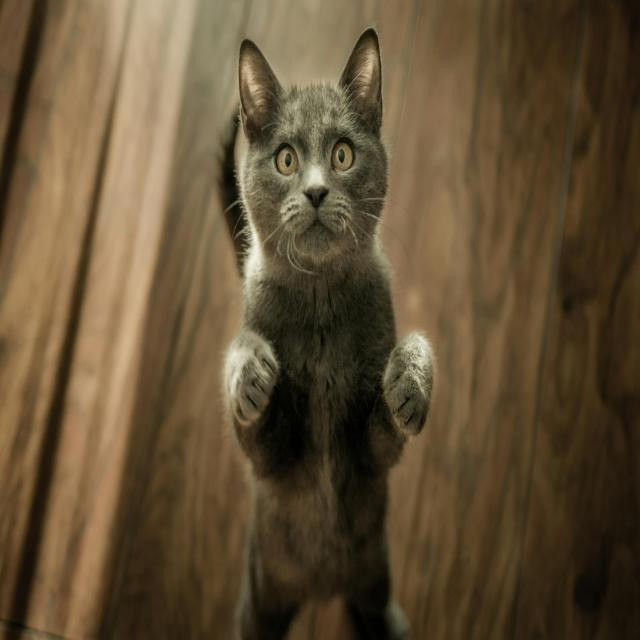Cat: (218, 26, 435, 638)
